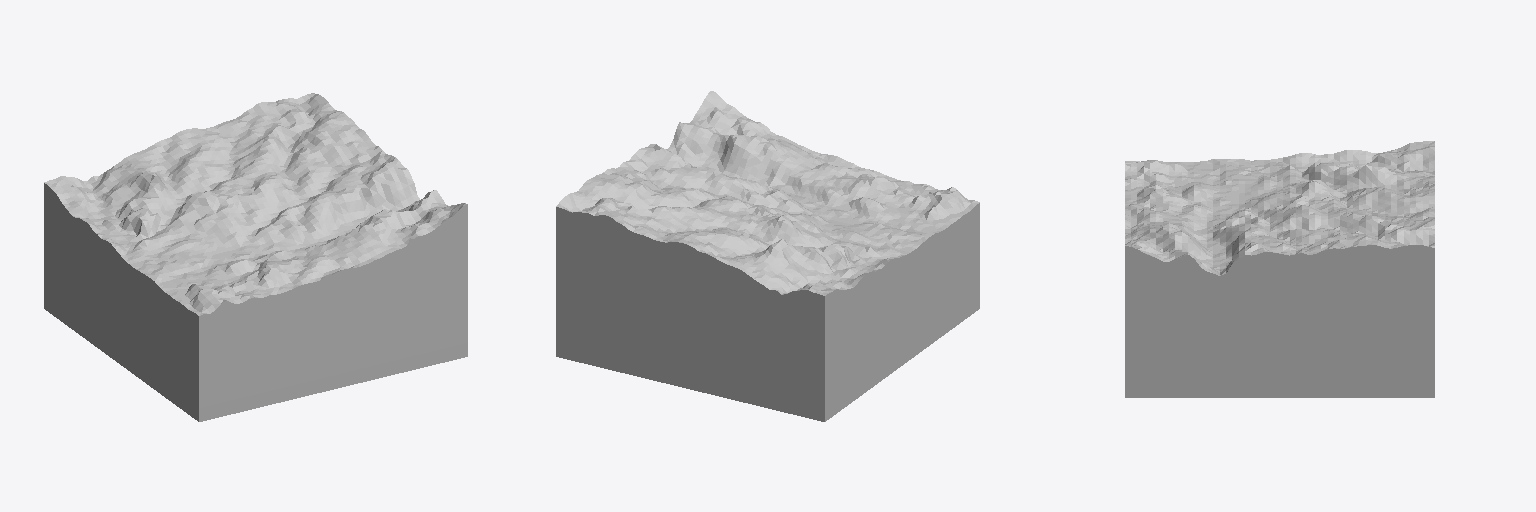
File: block_2_0.obj
The picture shows the model from 3 angles: view 1: azimuth 30°, elevation 25°; view 2: azimuth 150°, elevation 25°; view 3: azimuth 270°, elevation 25°; orthographic projection.
Visible parts, largest first — view 1: Mesh_7; view 2: Mesh_7; view 3: Mesh_7.
Part boxes in pixels (bbox=[...]): Mesh_7: bbox=[44, 93, 467, 421]; Mesh_7: bbox=[556, 91, 979, 421]; Mesh_7: bbox=[1125, 141, 1434, 397].
Size of the model in its own units: 0.1 by 0.0544 by 0.1.